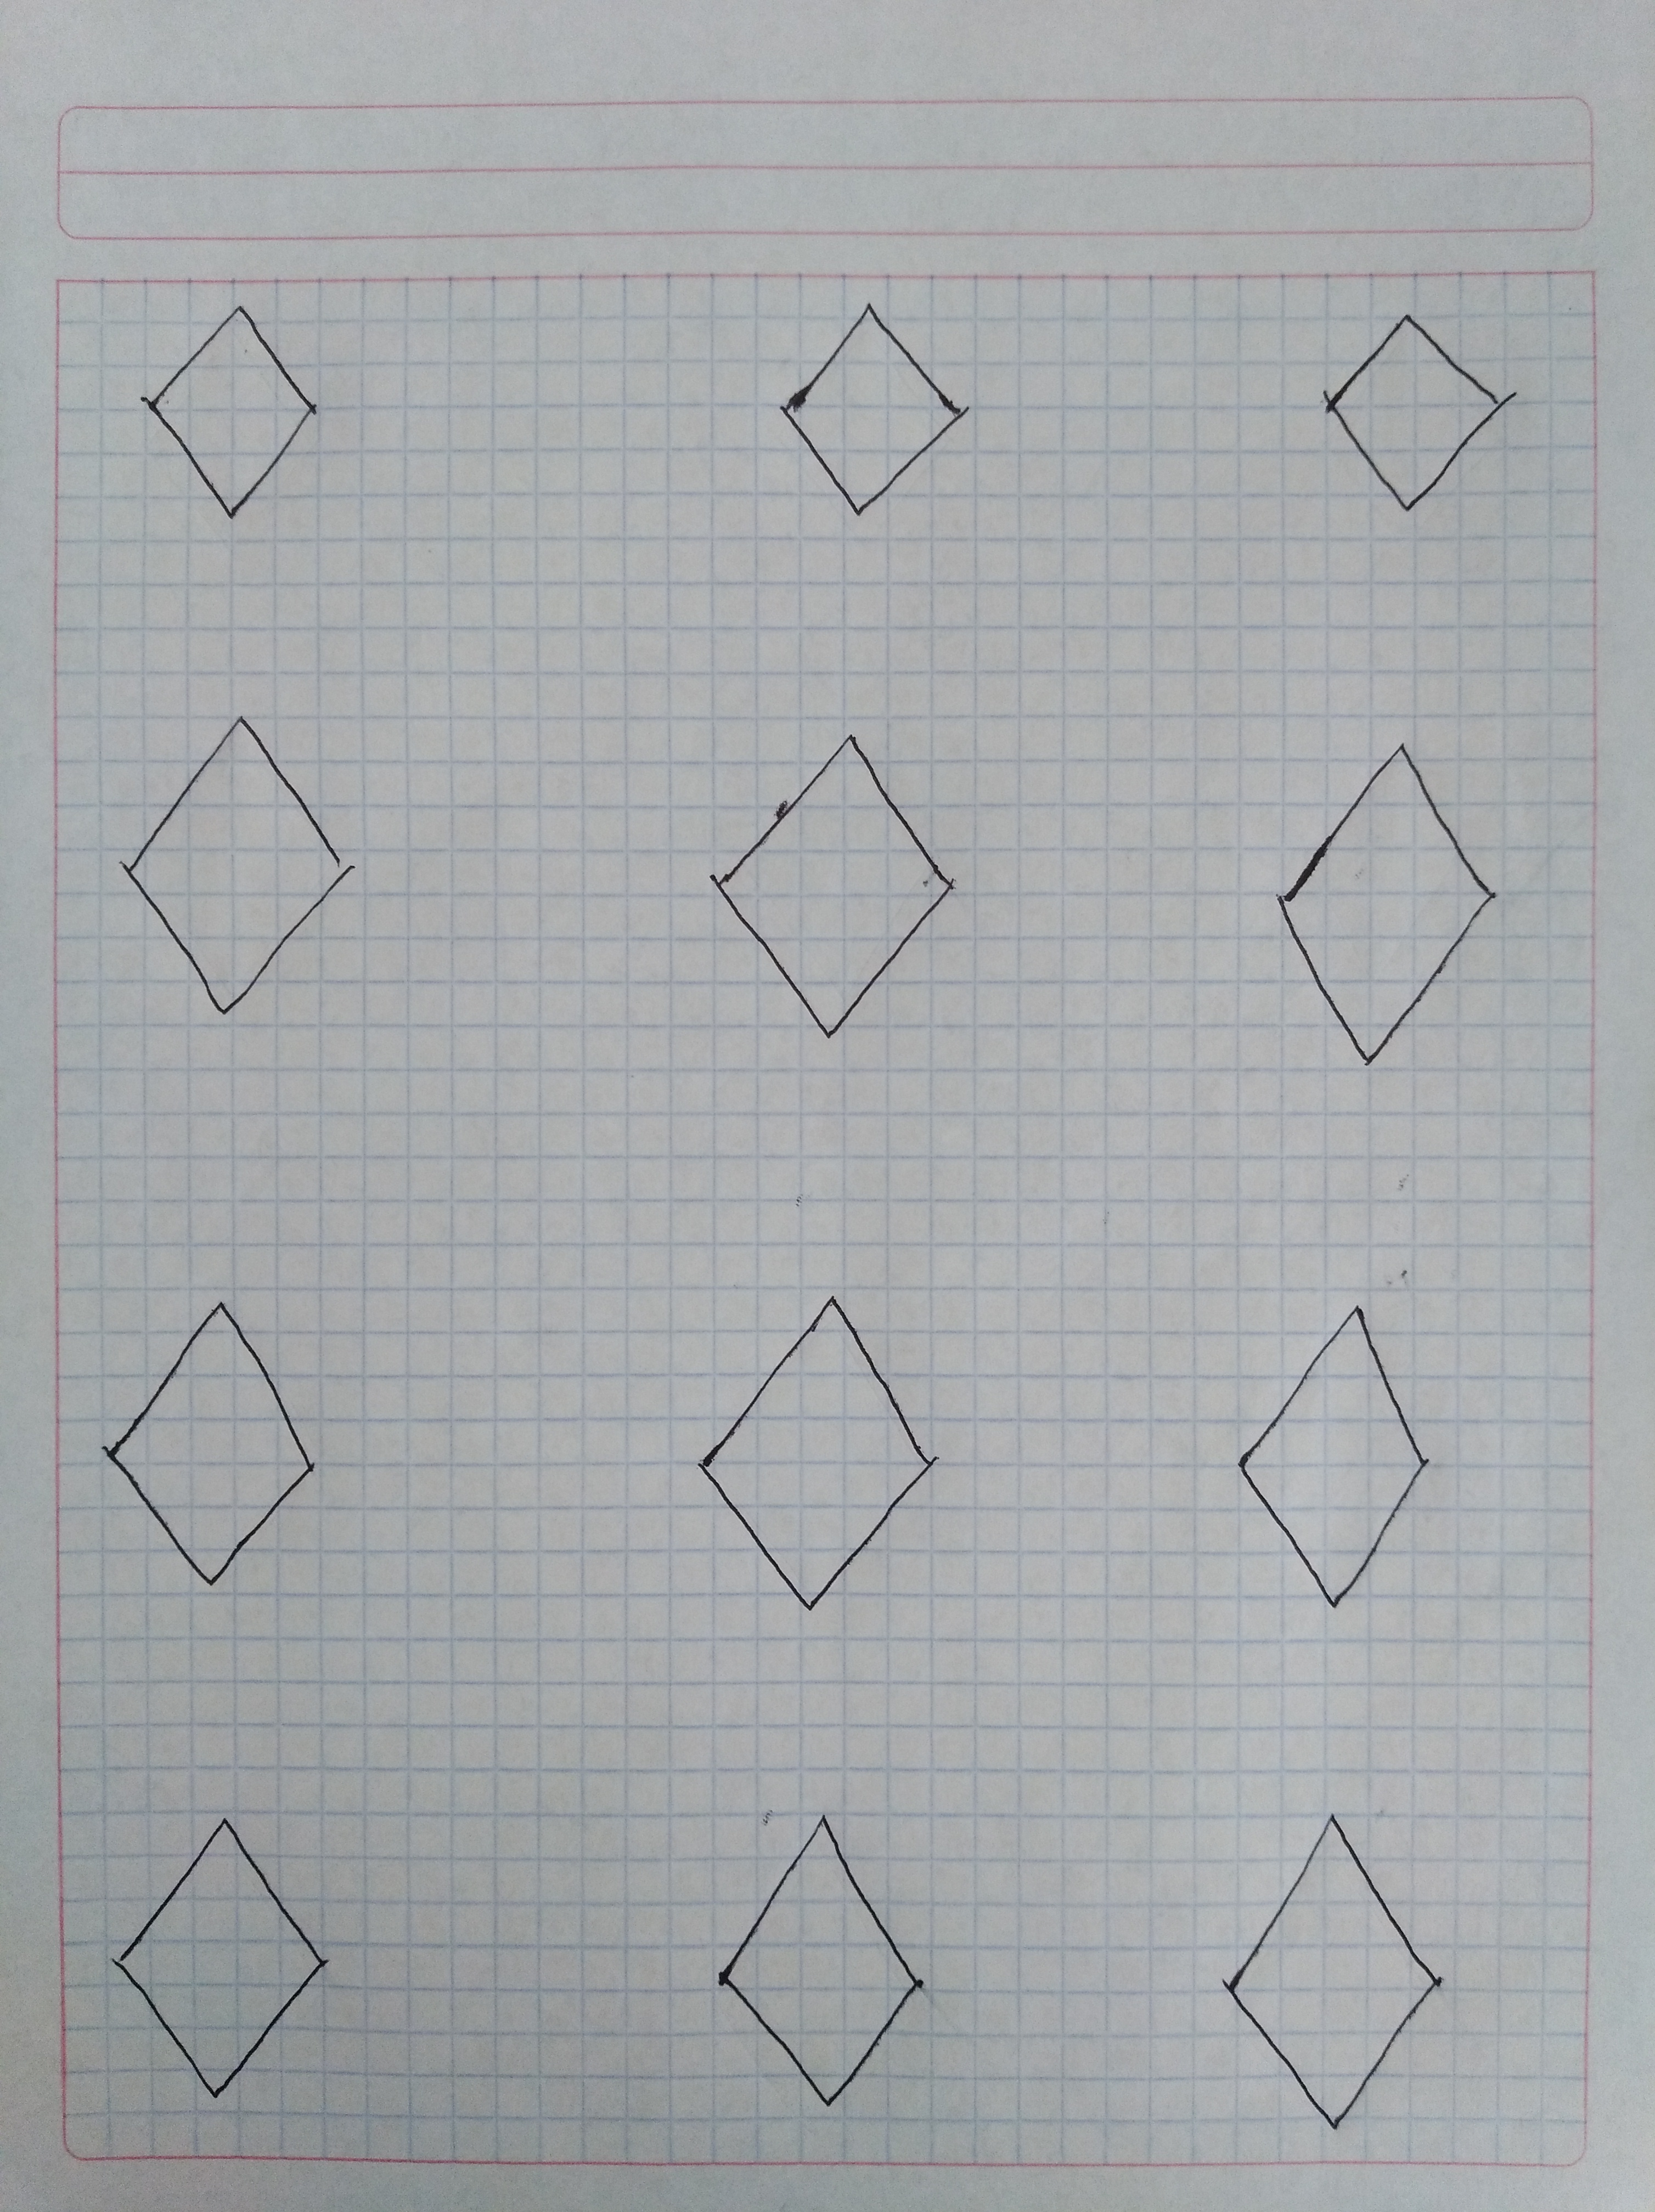decision: (659, 1288, 977, 1632), (1227, 719, 1528, 1083), (688, 702, 977, 1072), (99, 678, 374, 1041), (1198, 1791, 1474, 2148), (683, 1800, 977, 2134), (1201, 1282, 1486, 1625), (66, 1279, 346, 1607), (85, 1795, 363, 2113), (756, 283, 996, 537), (1300, 276, 1532, 535), (129, 278, 336, 537)
